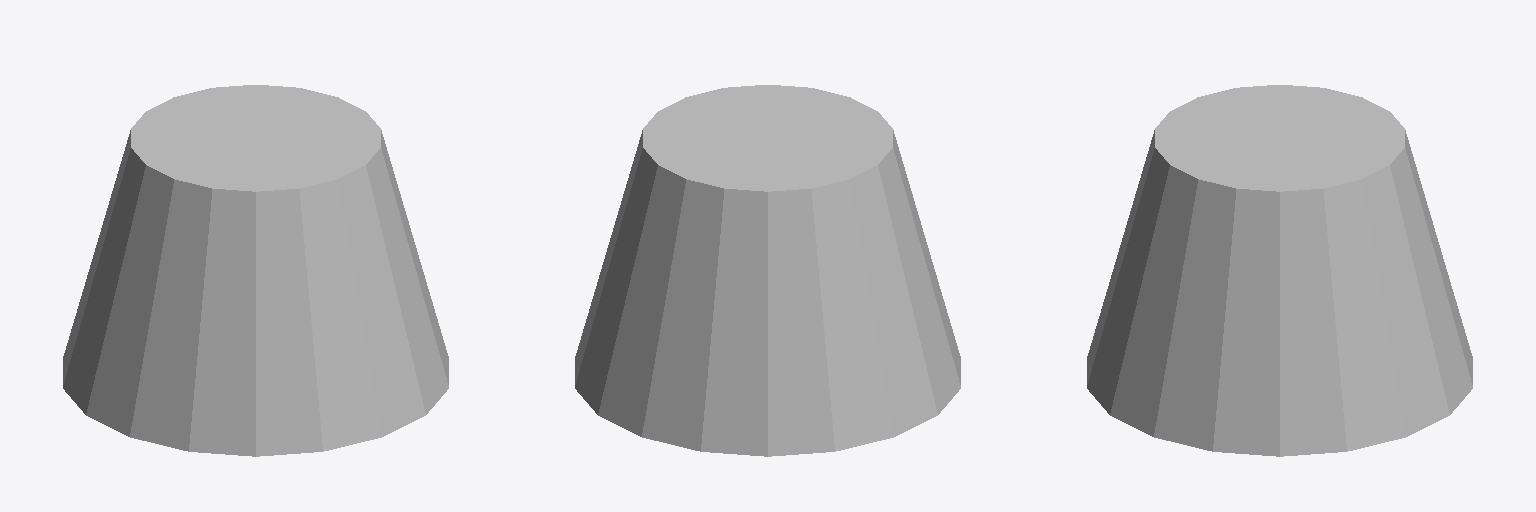
The model's file is reducer_concentric.obj.
The picture shows the model from 3 angles: view 1: azimuth 30°, elevation 25°; view 2: azimuth 150°, elevation 25°; view 3: azimuth 270°, elevation 25°; orthographic projection.
Parts seen in each view (by area): view 1: __.1; view 2: __.1; view 3: __.1.
Part boxes in pixels (x1,y1,x2,y2): __.1: (63,85,448,456); __.1: (575,85,960,456); __.1: (1087,85,1472,456).
Size of the model in its own units: 78.28 by 51.82 by 77.09.